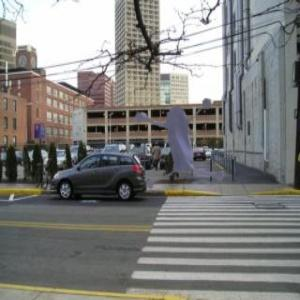drone: (105, 60, 268, 223)
